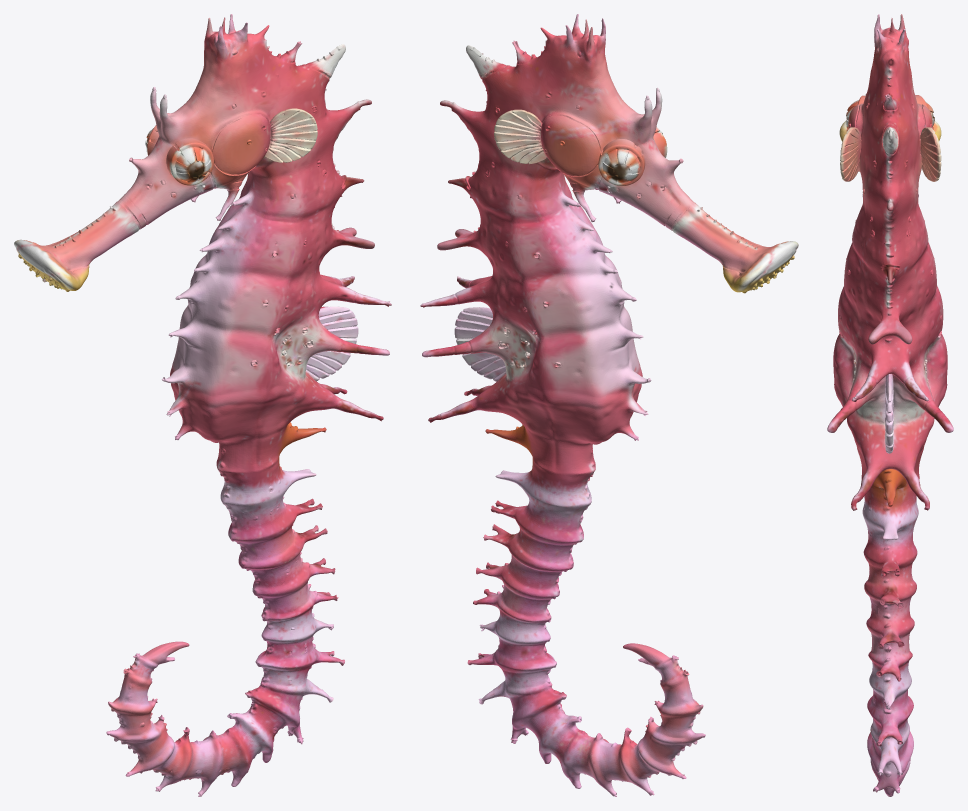
3 views of the same model, side by side, from view 1: azimuth 30°, elevation 25°; view 2: azimuth 150°, elevation 25°; view 3: azimuth 270°, elevation 25° (orthographic).
Visible parts, largest first — view 1: 10z; view 2: 10z; view 3: 10z.
Boxes of the visible parts, x1=… form: 10z: x1=14, y1=14, x2=391, y2=796; 10z: x1=420, y1=14, x2=798, y2=796; 10z: x1=827, y1=14, x2=953, y2=796.
Bounding box in the file's own units: 0.413 × 0.8876 × 0.1313.
1 material, 1 textured.
